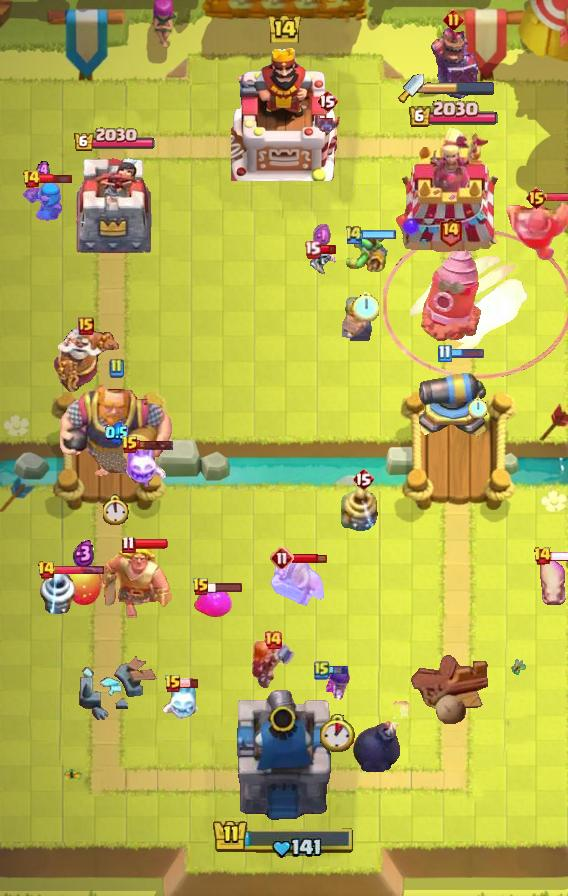baby-dragon: (352, 701, 412, 773)
bar: (394, 126, 512, 256)
barbarian-barrel: (312, 113, 342, 135)
bat: (162, 681, 207, 723)
clock: (212, 818, 356, 860)
electro-spirit: (73, 540, 95, 569), (104, 420, 127, 444), (313, 224, 333, 249), (36, 159, 50, 181)
elixir: (320, 714, 355, 752), (102, 494, 129, 525), (352, 291, 379, 321), (468, 397, 487, 419)
elixir-collector: (50, 324, 122, 400)
elixir-golem-big: (426, 23, 480, 103)
emote: (53, 565, 105, 576), (39, 172, 74, 185), (138, 439, 175, 451), (449, 347, 485, 359), (133, 538, 169, 550), (207, 581, 243, 593), (293, 552, 328, 564), (362, 229, 398, 240), (544, 192, 567, 203), (327, 665, 349, 676), (550, 550, 568, 563), (180, 679, 200, 690), (319, 245, 338, 256)
firecracker: (504, 198, 568, 264)
giant: (536, 555, 568, 607)
giant-skeleton: (58, 379, 174, 479)
giant-snowball: (341, 231, 389, 273)
goblin: (323, 667, 352, 703)
goblin-drill: (339, 487, 387, 535), (36, 568, 80, 618)
goblin-giant: (272, 554, 325, 606), (342, 295, 378, 342)
goblin-hut: (100, 541, 176, 623)
heal-spirit: (310, 246, 336, 275)
hog: (64, 563, 104, 607)
hog-rider: (250, 640, 296, 690)
ice-wizard: (384, 230, 568, 379)
king-tower: (232, 686, 336, 826), (231, 45, 337, 181)
king-tower-bar: (424, 81, 496, 95)
magic-archer: (417, 246, 483, 344)
miner: (192, 590, 232, 618)
mirror: (120, 441, 168, 489)
queen-tower: (74, 157, 154, 256)
royal-recruit: (418, 358, 490, 442)
selected: (409, 99, 500, 128), (72, 127, 155, 153)
text: (437, 217, 462, 248), (270, 546, 294, 570), (525, 186, 548, 210), (316, 89, 338, 113), (352, 467, 374, 491), (444, 9, 465, 30), (344, 224, 364, 245), (22, 169, 42, 189), (36, 560, 56, 580), (263, 630, 283, 650), (532, 546, 551, 566), (121, 435, 139, 455), (192, 577, 210, 597), (164, 674, 182, 694), (108, 358, 124, 378), (314, 660, 330, 680), (304, 241, 321, 259), (78, 317, 94, 335), (437, 344, 451, 363), (121, 535, 135, 553)
witch: (20, 180, 66, 222)
